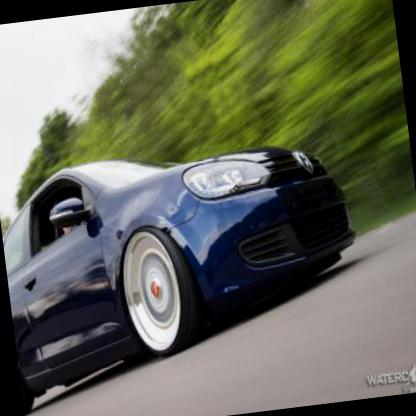car: (0, 119, 359, 396)
